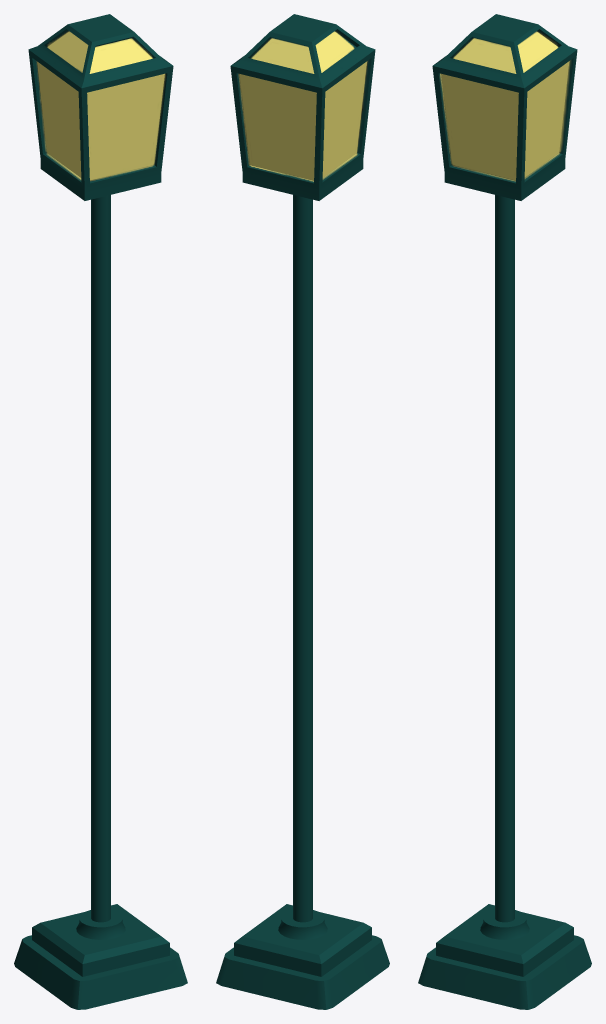
File: Street_lamp_01.fbx
The picture shows the model from 3 angles, left to right: view 1: azimuth 30°, elevation 25°; view 2: azimuth 150°, elevation 25°; view 3: azimuth 330°, elevation 25°; orthographic projection.
Parts seen in each view (by area): view 1: polySurface6; view 2: polySurface6; view 3: polySurface6.
Part boxes in pixels (x1,y1,x2,y2): polySurface6: (14,14,187,1009); polySurface6: (216,14,389,1009); polySurface6: (418,14,591,1009).
Bounding box in the file's own units: 33.16 × 258 × 33.16.
Materials: 1 (1 with a texture image).
